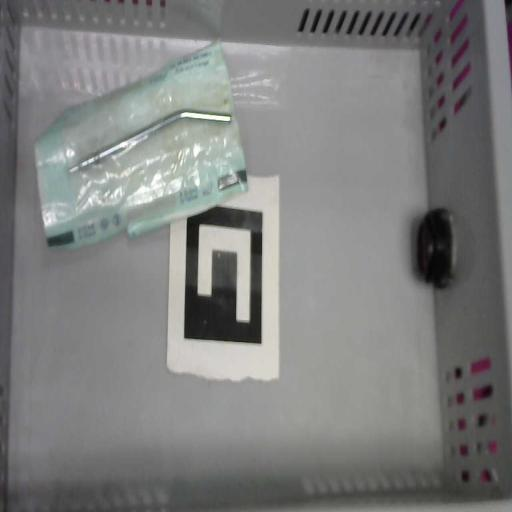QR: (166, 172, 279, 381)
triple_syringe: (33, 39, 248, 250)
